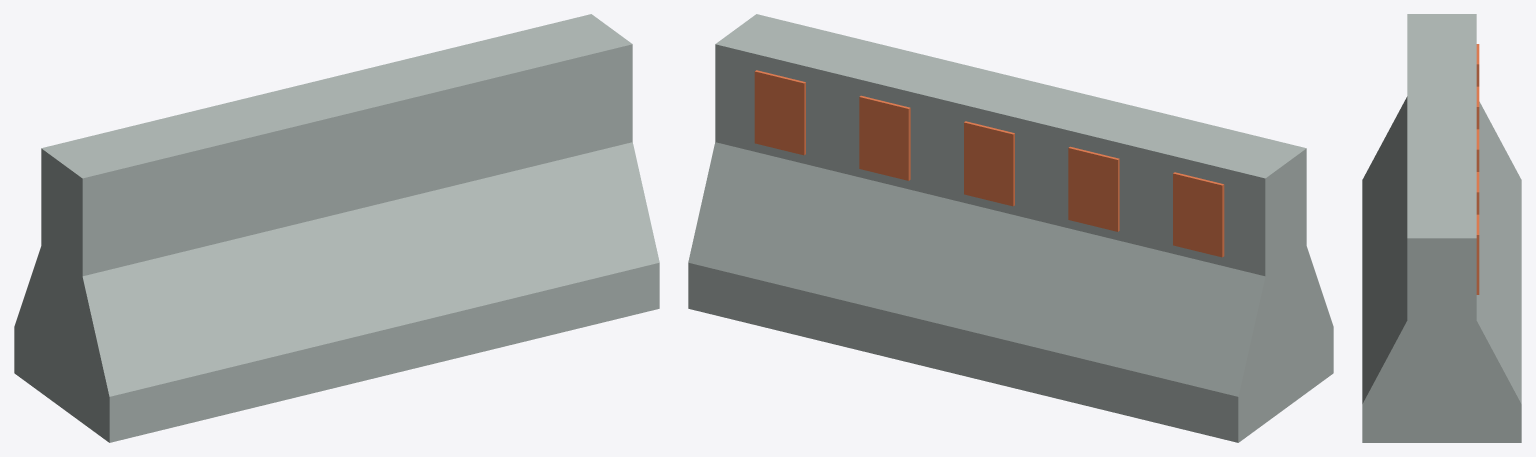
File: concrete_barrier.glb
3 renders of one model, left to right at view 1: azimuth 30°, elevation 25°; view 2: azimuth 150°, elevation 25°; view 3: azimuth 270°, elevation 25°, orthographic. The views are drawn at different scales.
Visible parts, largest first — view 1: concrete_barrier.Root_Concrete; view 2: concrete_barrier.Root_Concrete, concrete_barrier.Root_Orange; view 3: concrete_barrier.Root_Concrete, concrete_barrier.Root_Orange.
Boxes of the visible parts, x1,y1,x2,y2 form: concrete_barrier.Root_Concrete: (14,14,659,442); concrete_barrier.Root_Concrete: (688,14,1333,442); concrete_barrier.Root_Orange: (754,70,1224,257); concrete_barrier.Root_Concrete: (1362,14,1521,442); concrete_barrier.Root_Orange: (1476,44,1479,294).
Bounding box in the file's own units: 2 × 0.85 × 0.6.
